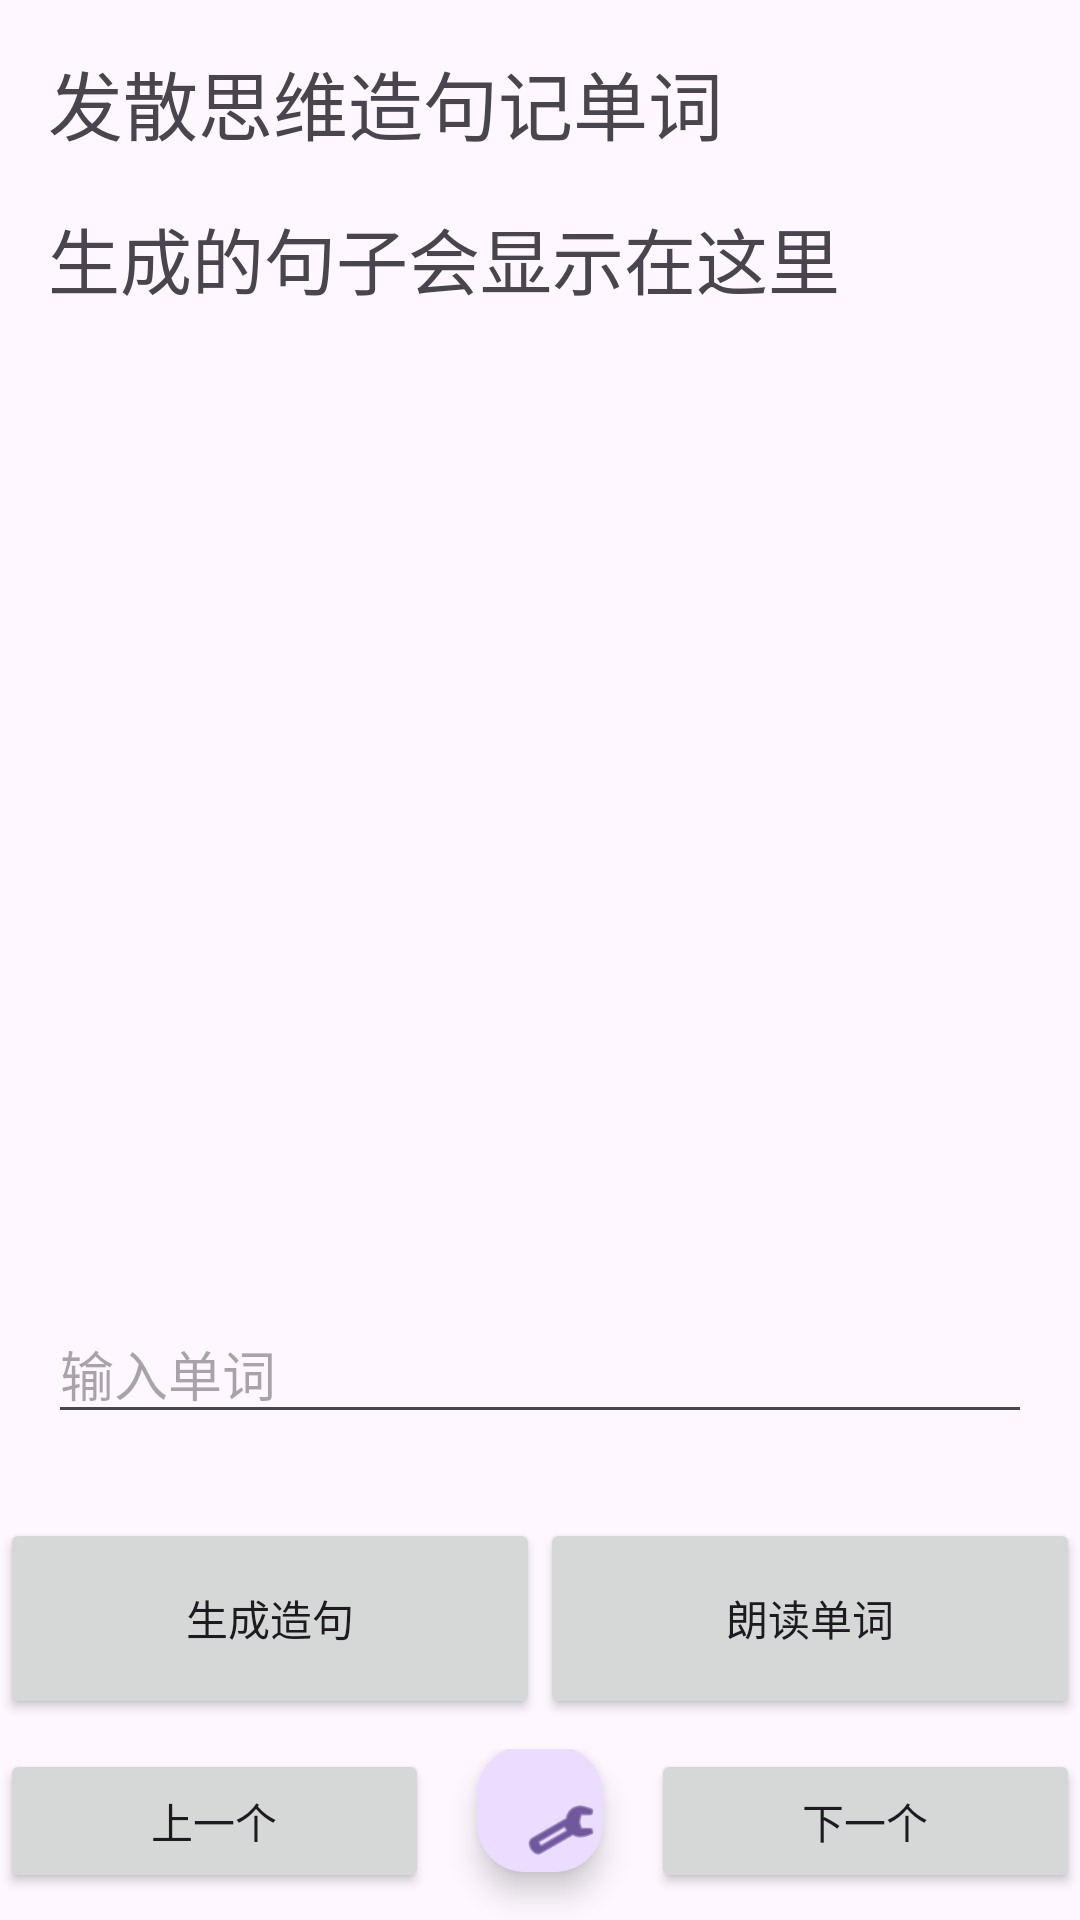

Icons on this 1080 × 1920 Android screen, each with its box as (left=x1, top=y1, right=x2, bottom=y2):
Settings: (left=477, top=1749, right=603, bottom=1872)
